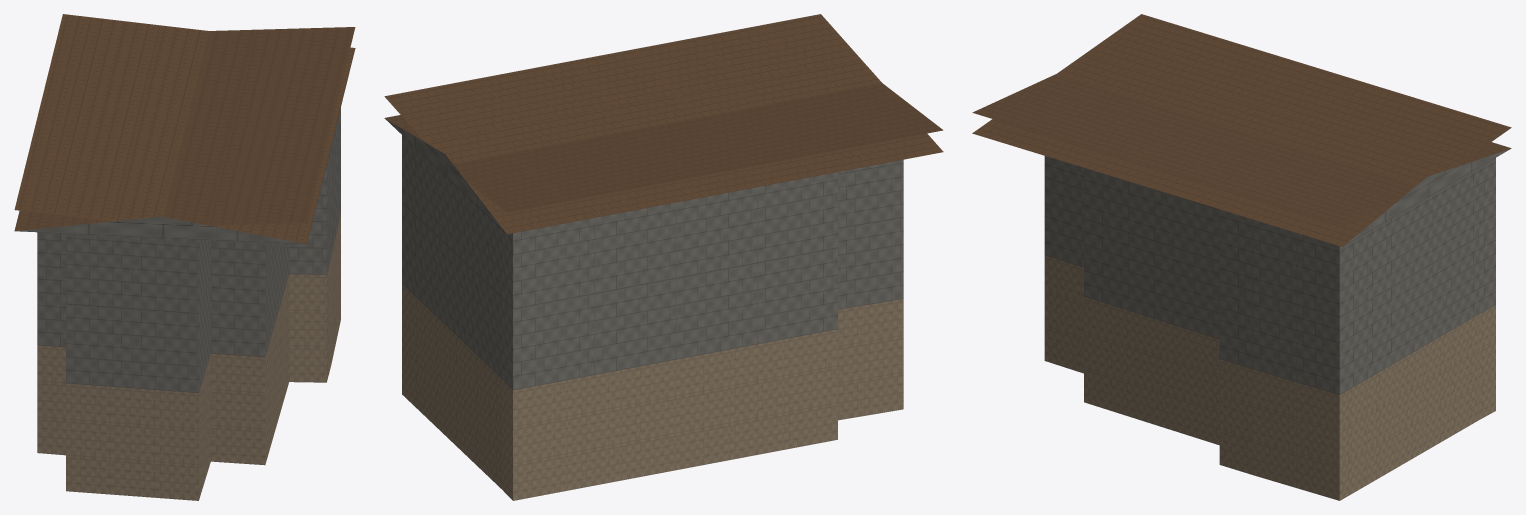
File: bld_c13_36_416.gltf
The picture shows the model from 3 angles, left to right: view 1: azimuth 30°, elevation 25°; view 2: azimuth 150°, elevation 25°; view 3: azimuth 270°, elevation 25°; orthographic projection. The views are drawn at different scales.
Visible parts, largest first — view 1: bld_c13_36_416; view 2: bld_c13_36_416; view 3: bld_c13_36_416.
Part boxes in pixels (bbox=[...]): bld_c13_36_416: bbox=[14, 14, 355, 500]; bld_c13_36_416: bbox=[384, 14, 943, 500]; bld_c13_36_416: bbox=[972, 14, 1511, 500].
Bounding box in the file's own units: 21.94 × 13.6 × 23.58.
4 materials, 4 textured.
